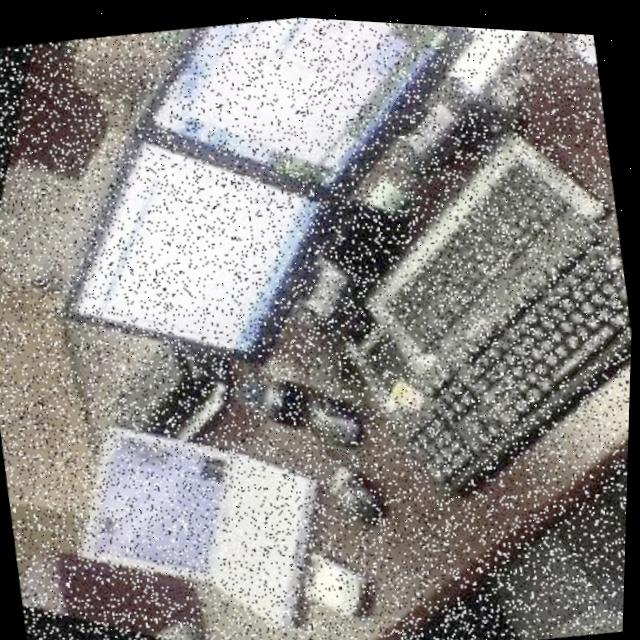mause: (268, 361, 399, 477), (313, 440, 413, 540)
